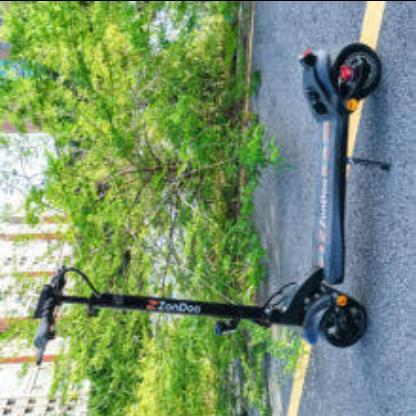bike: (10, 43, 391, 407), (26, 265, 370, 416)
